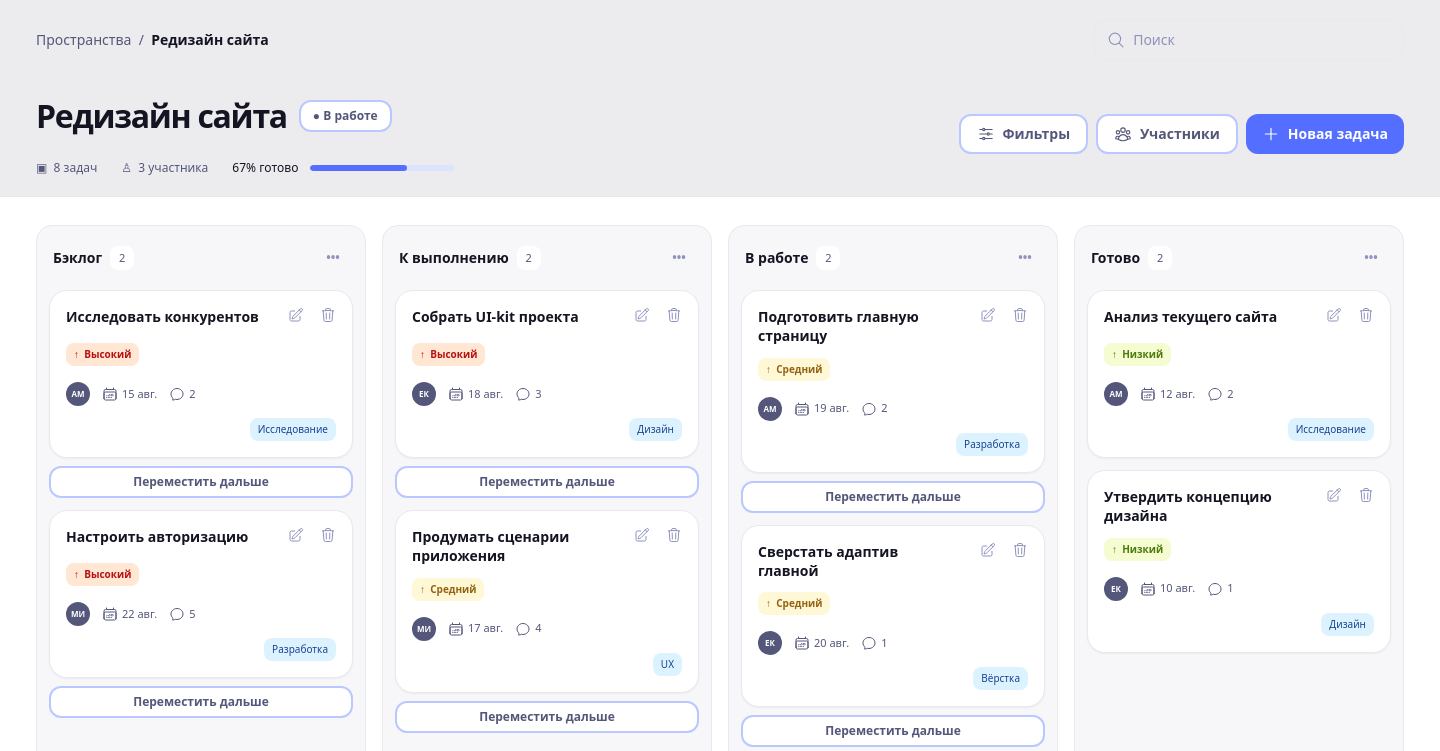
it: KanbanBoard › сбрасывает все выбранные категории
The image size is (1440, 751).
Click the button "Фильтры" at (1023, 134), box [958, 114, 1088, 154]
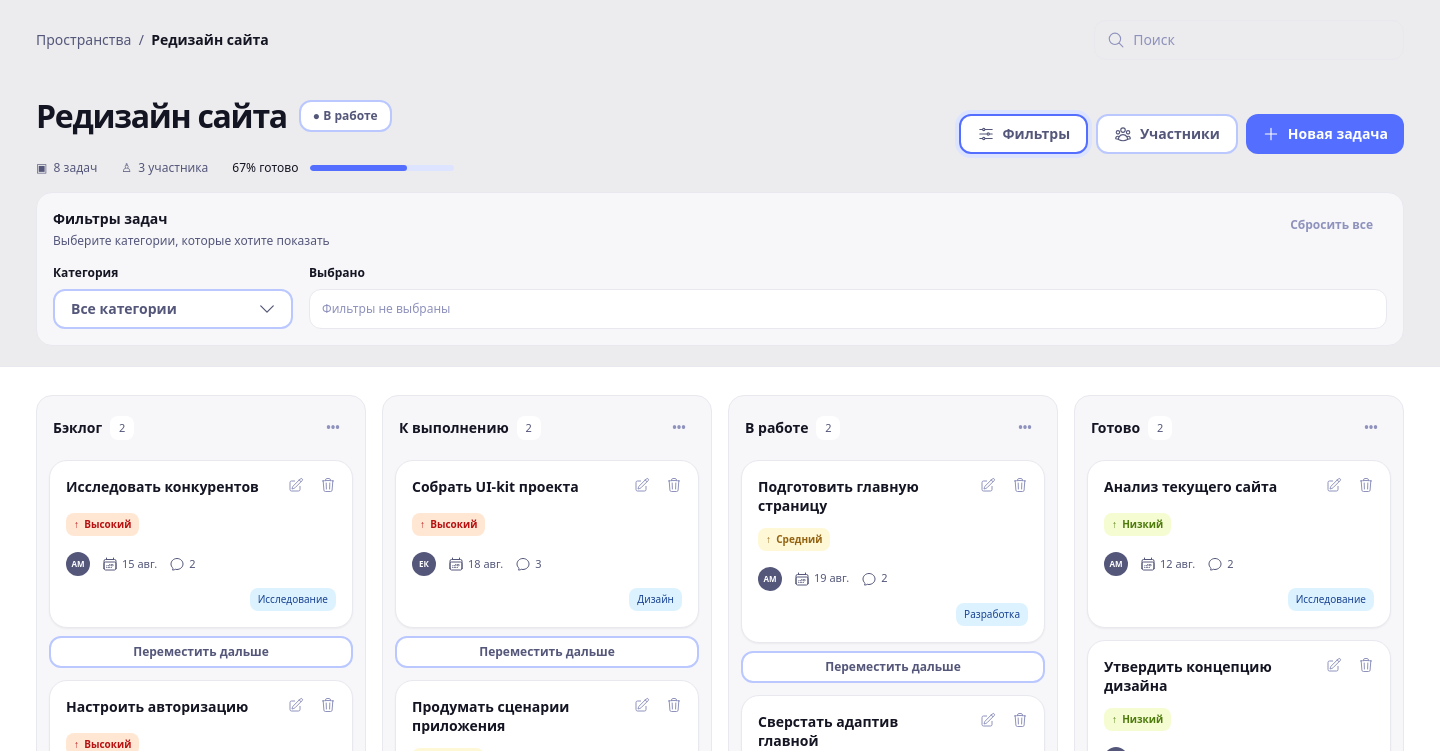
Select "Исследование" in the dropdown named "Добавить категорию" at (173, 309), box [53, 289, 293, 329]
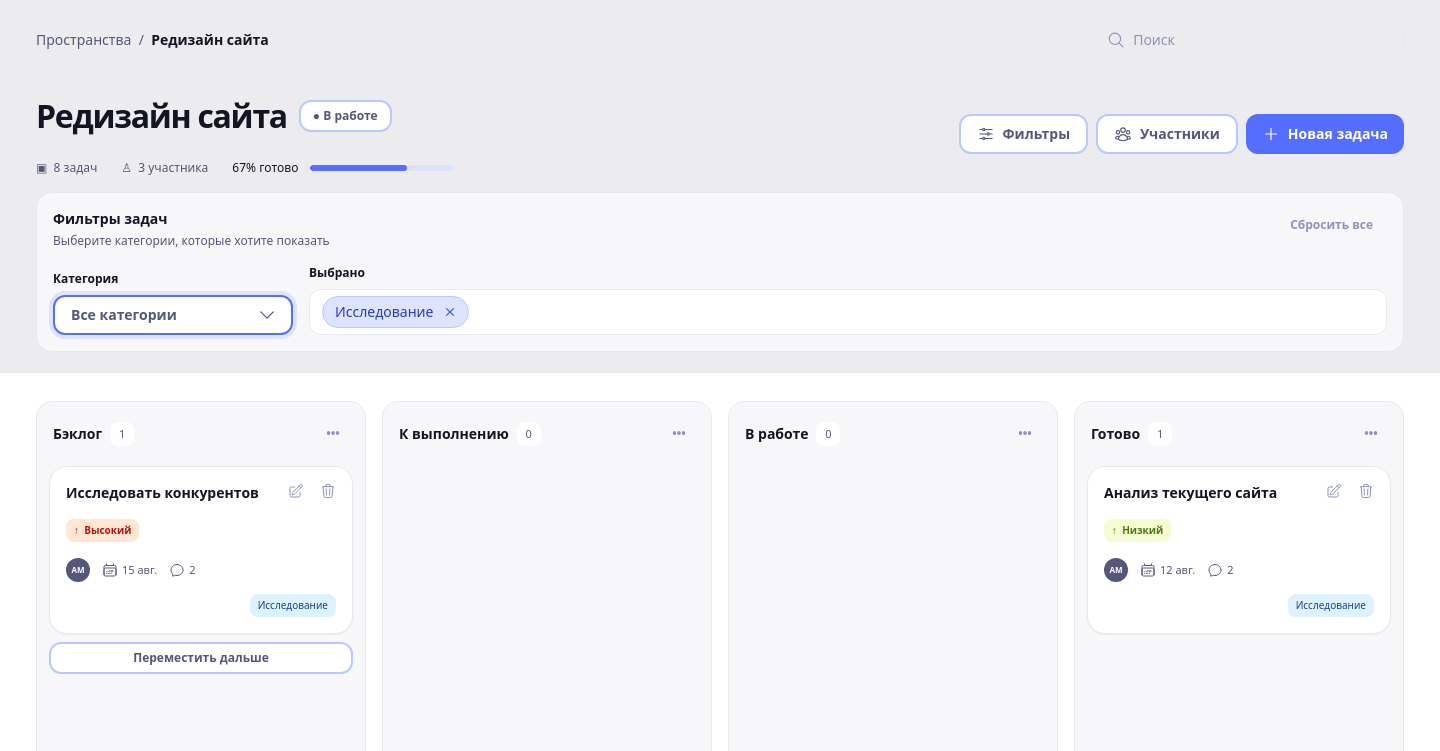
Select "Дизайн" in the dropdown named "Добавить категорию" at (173, 315), box [53, 295, 293, 335]
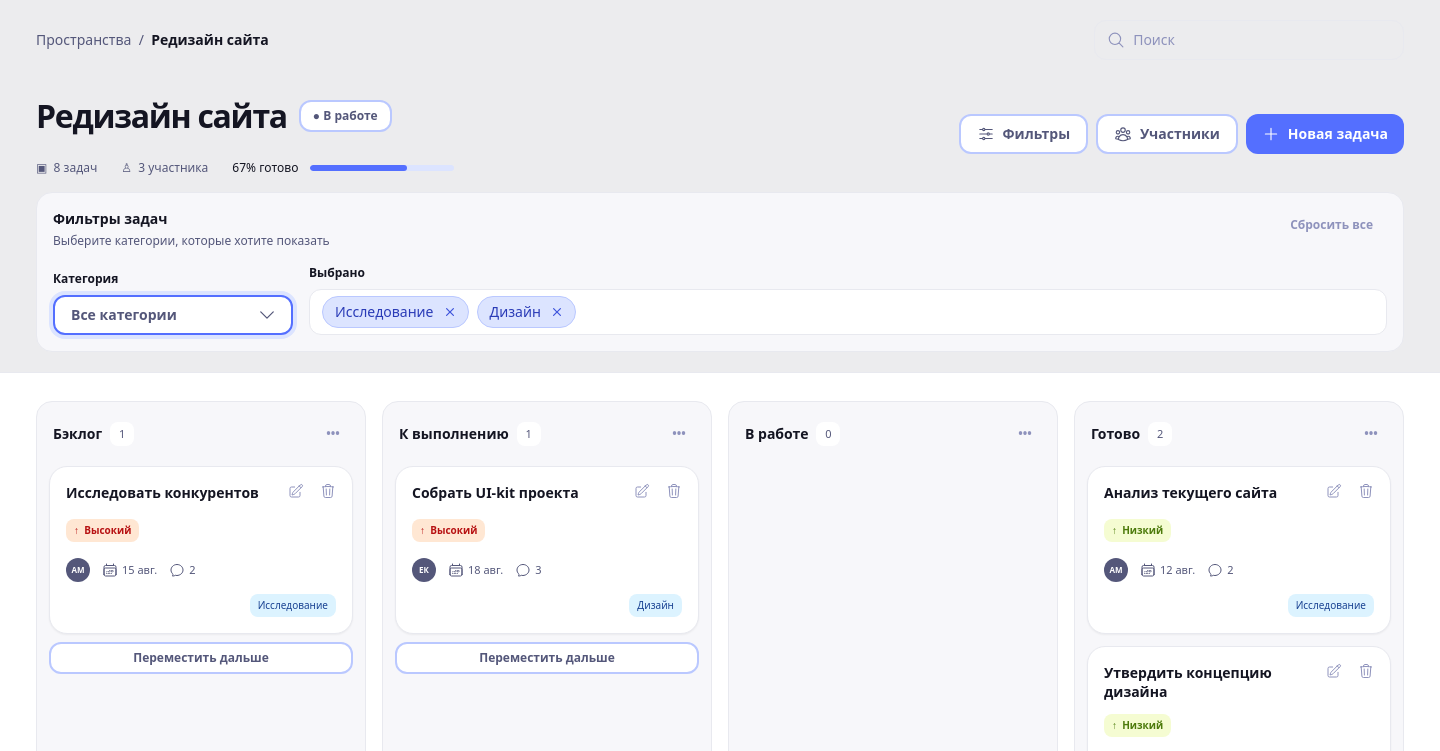
Now the text "Исследование" below "Выбрано" is shown, box [335, 302, 434, 321]
Now the button "Сбросить все" is enabled
Now the text "Дизайн" below "Выбрано" is shown, box [490, 302, 541, 321]
Click the button "Сбросить все" at (1332, 225), box [1276, 209, 1387, 241]
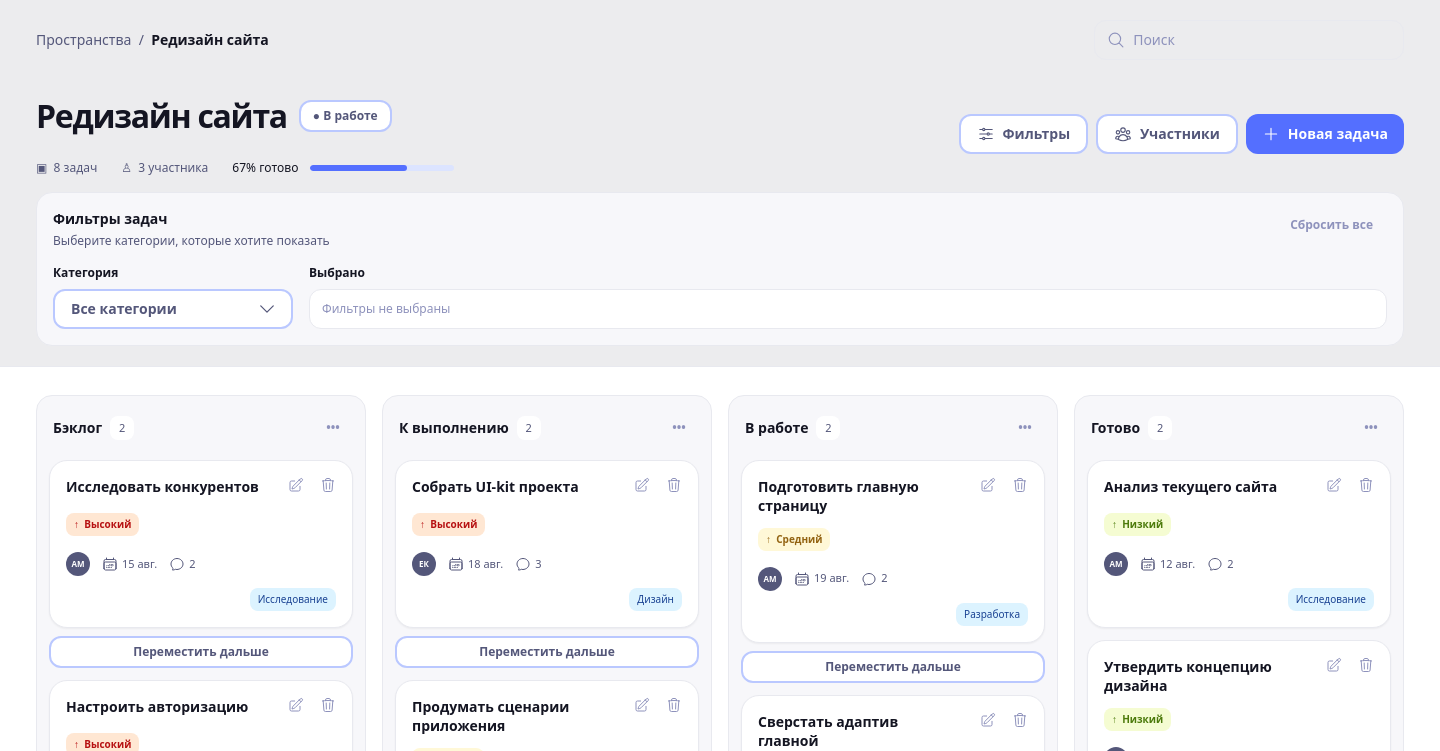
Now the text "Фильтры не выбраны" is shown, box [322, 301, 450, 317]
Now the link "Настроить авторизацию" is shown, box [66, 697, 248, 716]
